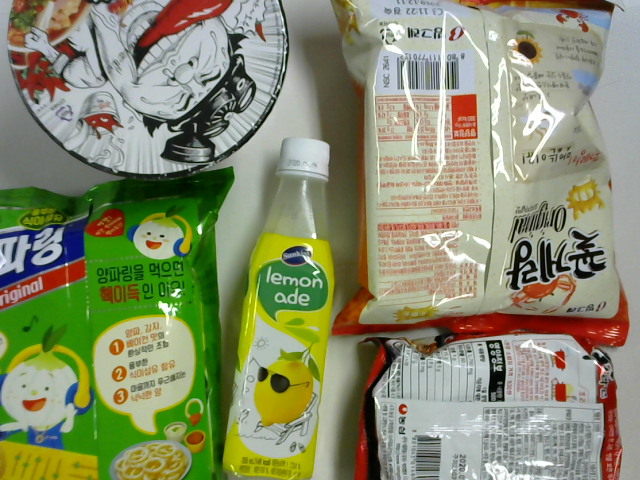Crabrang: (337, 1, 640, 331)
HeJangsock: (16, 1, 293, 168)
Oninon_Ring: (1, 181, 236, 480)
Sinramen: (355, 327, 631, 480)
Sunkist_Lemonaid_Pet: (205, 125, 358, 480)
